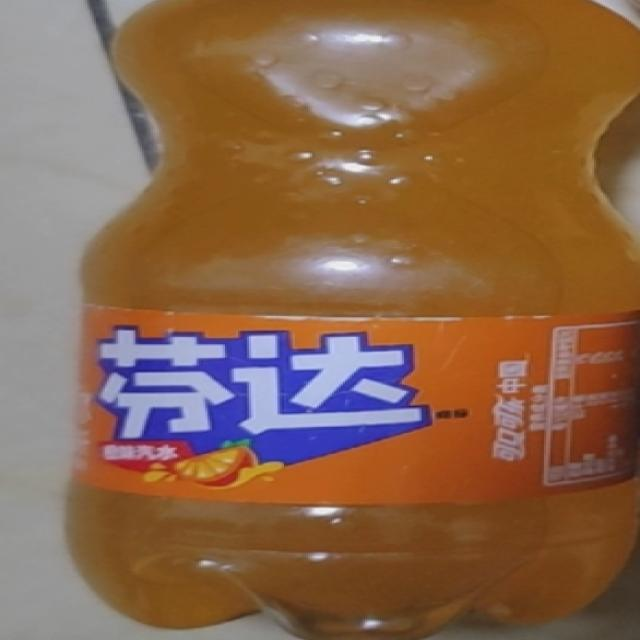orange: (78, 317, 474, 497)
